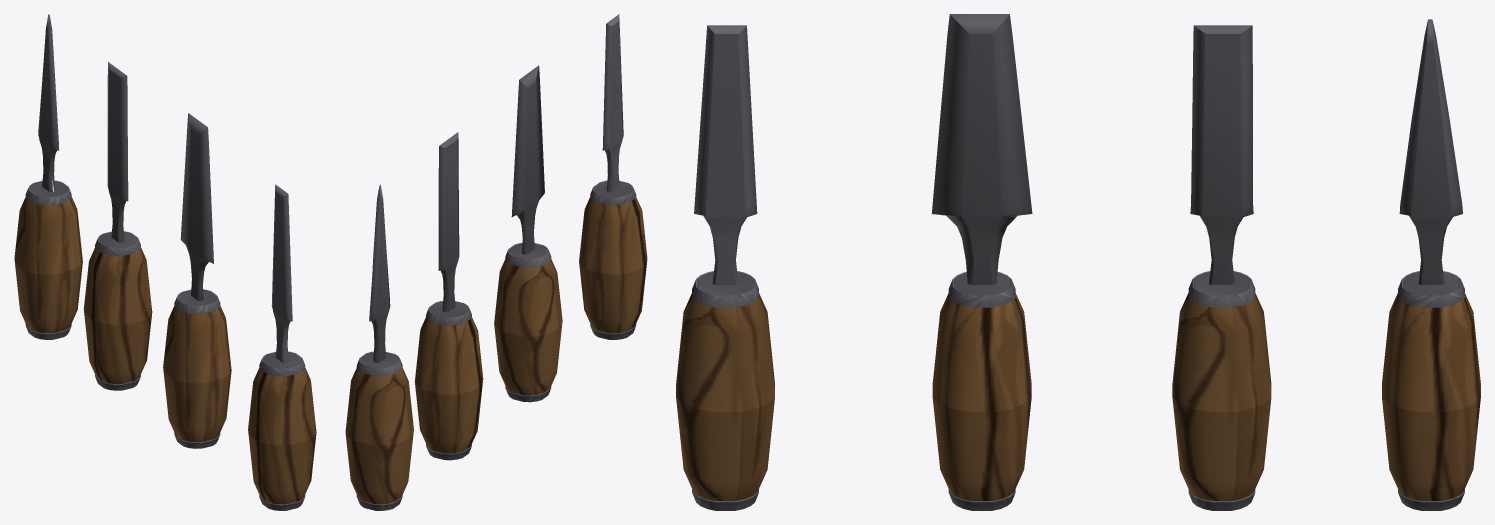
The model's file is Carving Tools.fbx.
The picture shows the model from 3 angles, left to right: view 1: azimuth 30°, elevation 25°; view 2: azimuth 150°, elevation 25°; view 3: azimuth 270°, elevation 25°; orthographic projection. The views are drawn at different scales.
Visible parts, largest first — view 1: Base11, Base1, Base9, Base10, Thingy2, Thingy3, Thingy1, Thingy4; view 2: Base9, Base11, Base1, Base10, Thingy2, Thingy3, Thingy1, Thingy4; view 3: Base10, Base1, Base11, Base9, Thingy2, Thingy3, Thingy1, Thingy4.
Part boxes in pixels (x1,y1,x2,y2): Base11: (14,180,82,339); Base1: (248,351,316,510); Base9: (163,289,231,448); Base10: (83,231,152,390); Thingy2: (180,113,213,300); Thingy3: (107,62,128,242); Thingy1: (271,184,292,362); Thingy4: (38,14,59,191); Base9: (494,242,562,402); Base11: (345,351,413,510); Base1: (579,180,647,339); Base10: (414,301,483,460); Thingy2: (511,65,544,254); Thingy3: (438,132,459,312); Thingy1: (602,14,623,192); Thingy4: (369,184,390,362); Base10: (1172,271,1271,510); Base1: (676,271,774,510); Base11: (1382,271,1480,510); Base9: (932,272,1031,510); Thingy2: (931,14,1032,284); Thingy3: (1190,25,1253,284); Thingy1: (694,25,757,284); Thingy4: (1399,19,1462,284).
Size of the model in its own units: 2.35 by 12.68 by 19.08.
Materials: 1 (1 with a texture image).
